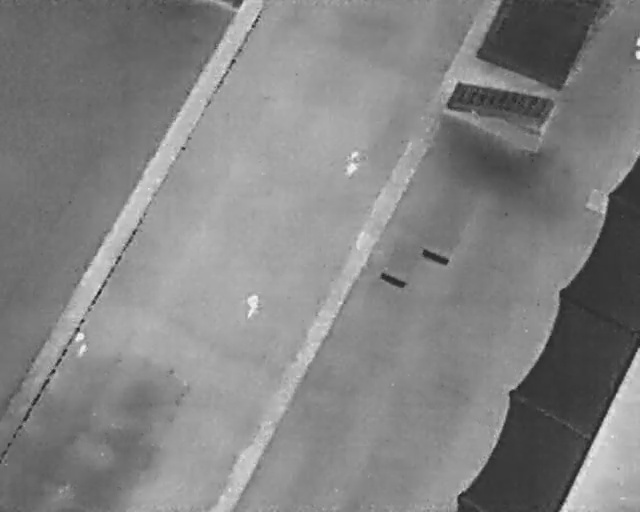Person: (342, 147, 364, 179), (243, 290, 263, 322), (74, 329, 88, 357)
